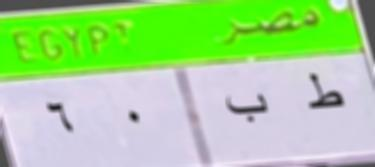0: (122, 105, 146, 132)
6: (42, 98, 78, 138)
Taa: (300, 68, 344, 117)
baa: (223, 90, 270, 130)
